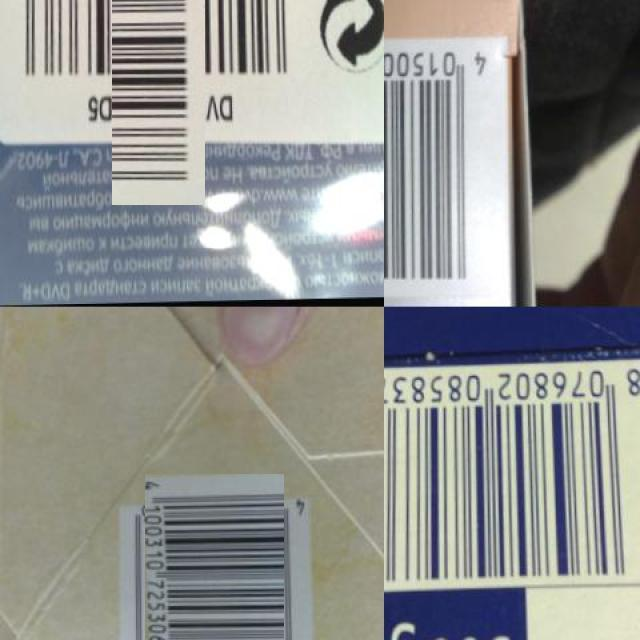Barcode: (384, 368, 640, 589), (384, 40, 505, 299), (56, 0, 261, 149), (131, 487, 297, 640)
